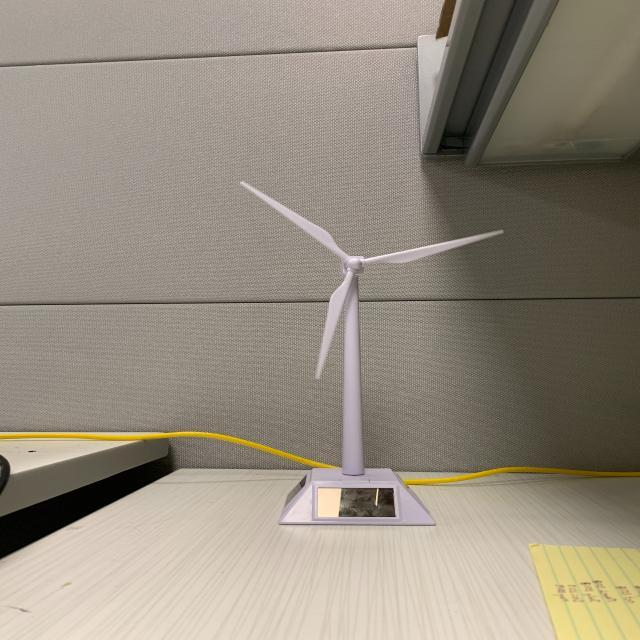solid-blade: (241, 182, 348, 258), (364, 232, 504, 265), (315, 270, 354, 378)
